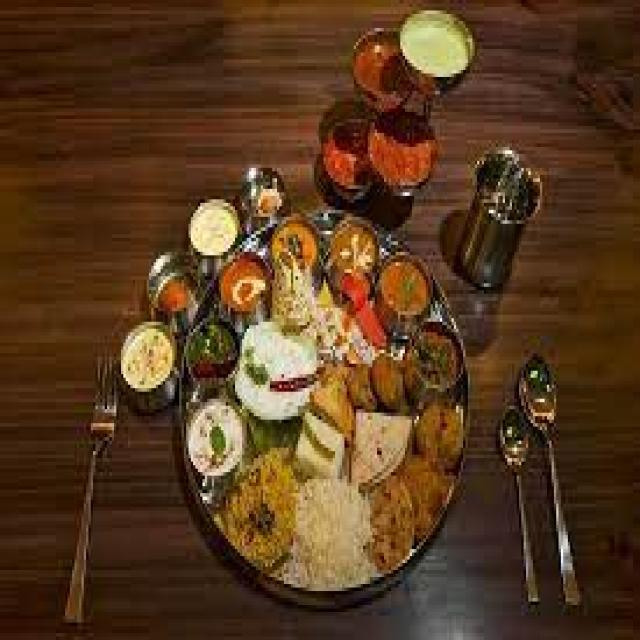dal: (260, 213, 322, 286)
raita: (180, 394, 249, 484)
rice: (303, 475, 372, 586), (240, 318, 324, 403)
roti: (346, 410, 417, 484)
sambar-rasam: (376, 248, 438, 336), (207, 253, 273, 321)
